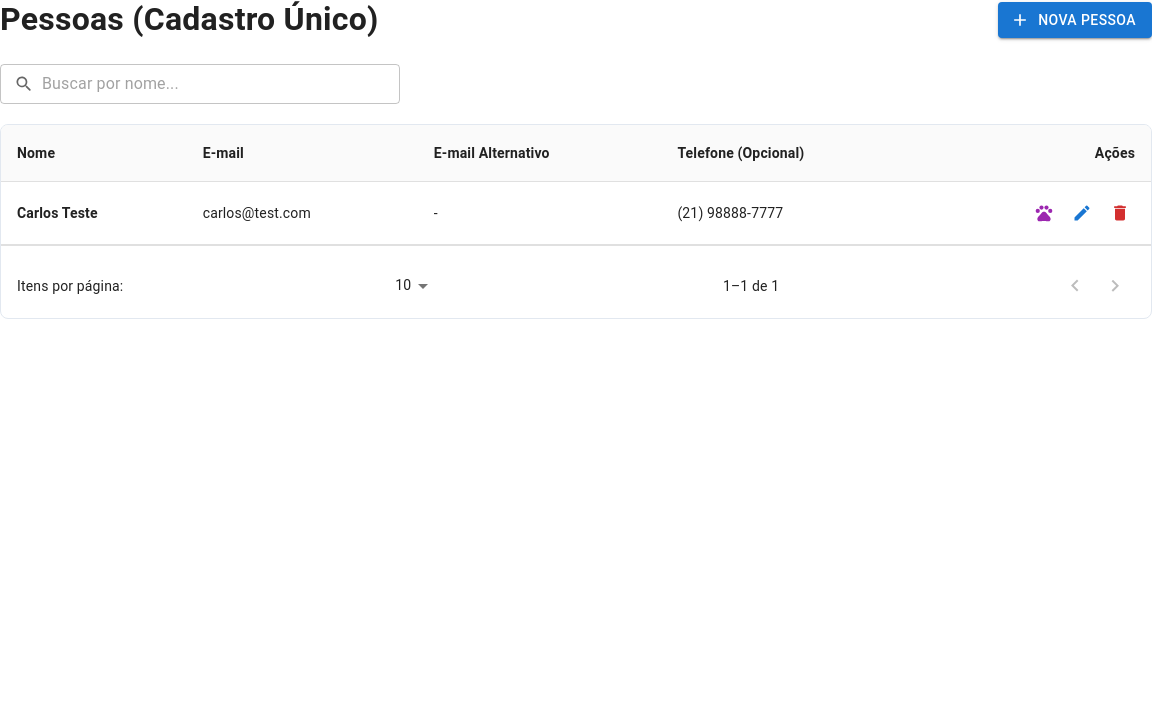
Scenario: PeoplePage › loads masked phone when editing a person
Expected: the text "Carlos Teste" is shown, left=1, top=181, right=187, bottom=244
Click the button named "Editar".
click(1082, 212)  # box left=1067, top=198, right=1097, bottom=228
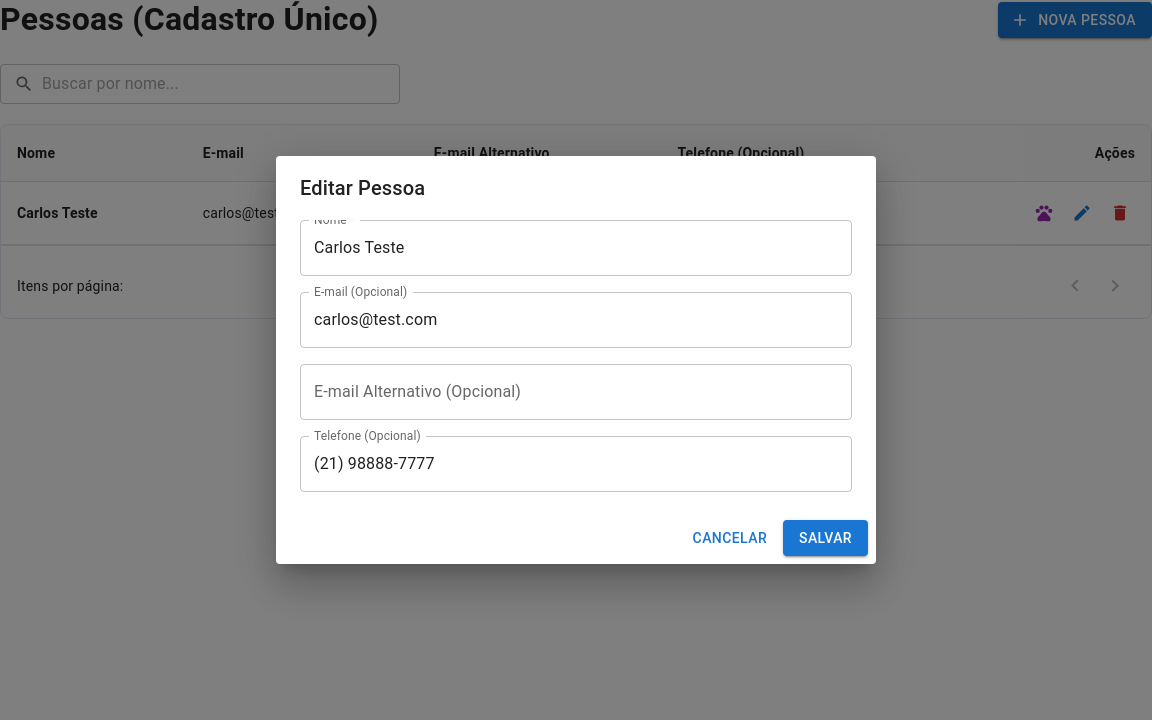
Result: the field labelled "Telefone (Opcional)" holds "(21) 98888-7777" at left=300, top=436, right=852, bottom=492
